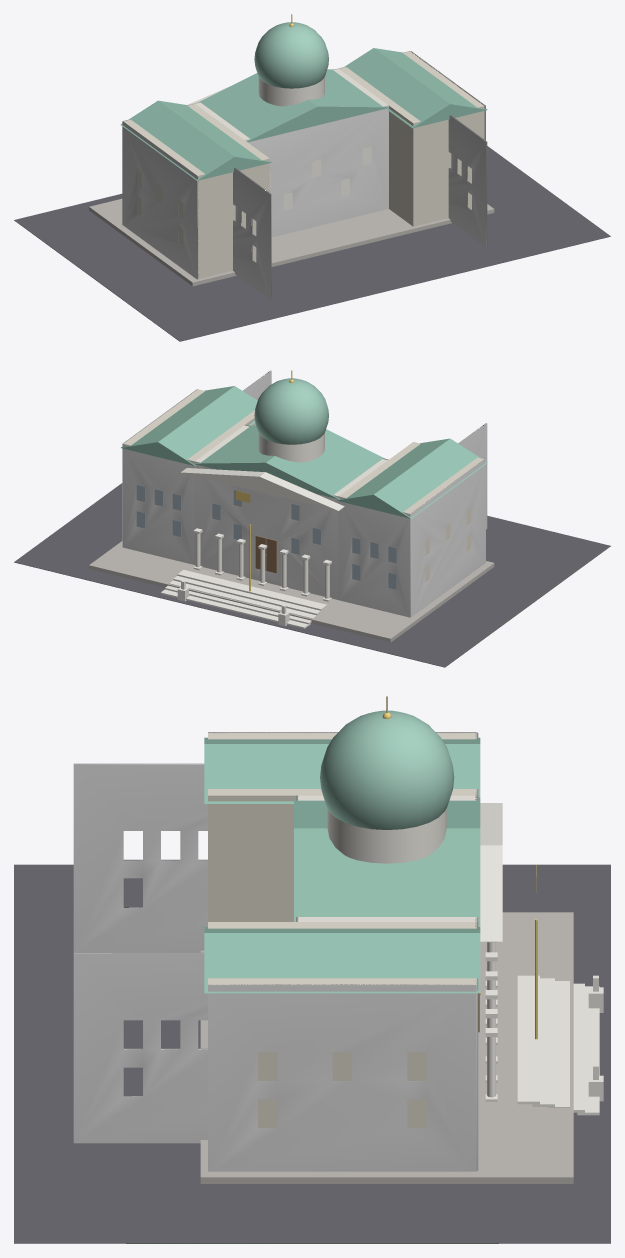
Rendered from government_palace.glb.
The picture shows the model from 3 angles, top to bottom: view 1: azimuth 30°, elevation 25°; view 2: azimuth 150°, elevation 25°; view 3: azimuth 270°, elevation 25°; orthographic projection. The views are drawn at different scales.
Visible parts, largest first — view 1: plaza, back_wall_center, right_body, outer_wall_left, foundation, center_roof, left_body, left_roof, right_roof, back_wall_right, dome, back_wall_left (+2 smaller); view 2: plaza, front_wall_center, outer_wall_left, foundation, front_wall_right, front_wall_left, center_roof, left_roof, right_roof, dome, pediment, left_body (+10 smaller); view 3: plaza, outer_wall_right, back_wall_right, back_wall_left, foundation, center_roof, right_roof, dome, left_body, left_roof, right_body, drum (+7 smaller).
Boxes of the visible parts, x1,y1,x2,y2 form: plaza: [14, 146, 610, 341]; back_wall_center: [245, 105, 388, 237]; right_body: [339, 51, 484, 226]; outer_wall_left: [122, 121, 198, 279]; foundation: [89, 199, 494, 286]; center_roof: [198, 69, 389, 142]; left_body: [124, 104, 269, 279]; left_roof: [120, 100, 271, 180]; right_roof: [344, 48, 487, 128]; back_wall_right: [448, 115, 487, 247]; dome: [254, 22, 328, 88]; back_wall_left: [233, 168, 271, 299]; plaza: [14, 483, 610, 667]; front_wall_center: [194, 461, 338, 599]; outer_wall_left: [410, 459, 485, 617]; foundation: [89, 541, 494, 642]; front_wall_right: [122, 444, 194, 564]; front_wall_left: [338, 496, 410, 617]; center_roof: [192, 425, 384, 499]; left_roof: [336, 438, 487, 518]; right_roof: [121, 386, 257, 466]; dome: [254, 378, 328, 444]; pediment: [181, 468, 344, 510]; left_body: [339, 442, 484, 582]; plaza: [14, 864, 610, 1243]; outer_wall_right: [208, 984, 476, 1171]; back_wall_right: [73, 952, 207, 1143]; back_wall_left: [73, 763, 207, 952]; foundation: [200, 912, 573, 1183]; center_roof: [294, 797, 480, 926]; right_roof: [204, 927, 480, 993]; dome: [320, 710, 454, 829]; left_body: [208, 732, 476, 921]; left_roof: [204, 737, 480, 803]; right_body: [208, 922, 476, 1128]; drum: [327, 808, 446, 863].
Bounding box in the file's own units: 60 × 26.5 × 40.
